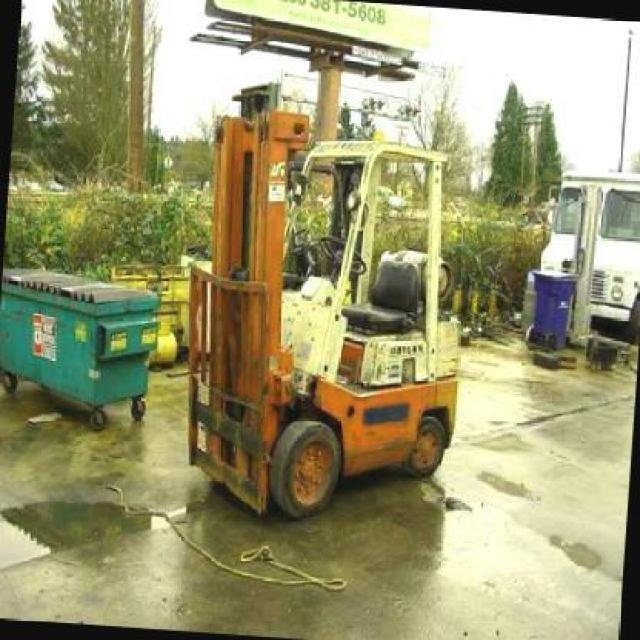forklift: (183, 94, 462, 520)
road sign: (205, 0, 430, 52)
van: (537, 169, 640, 331)
